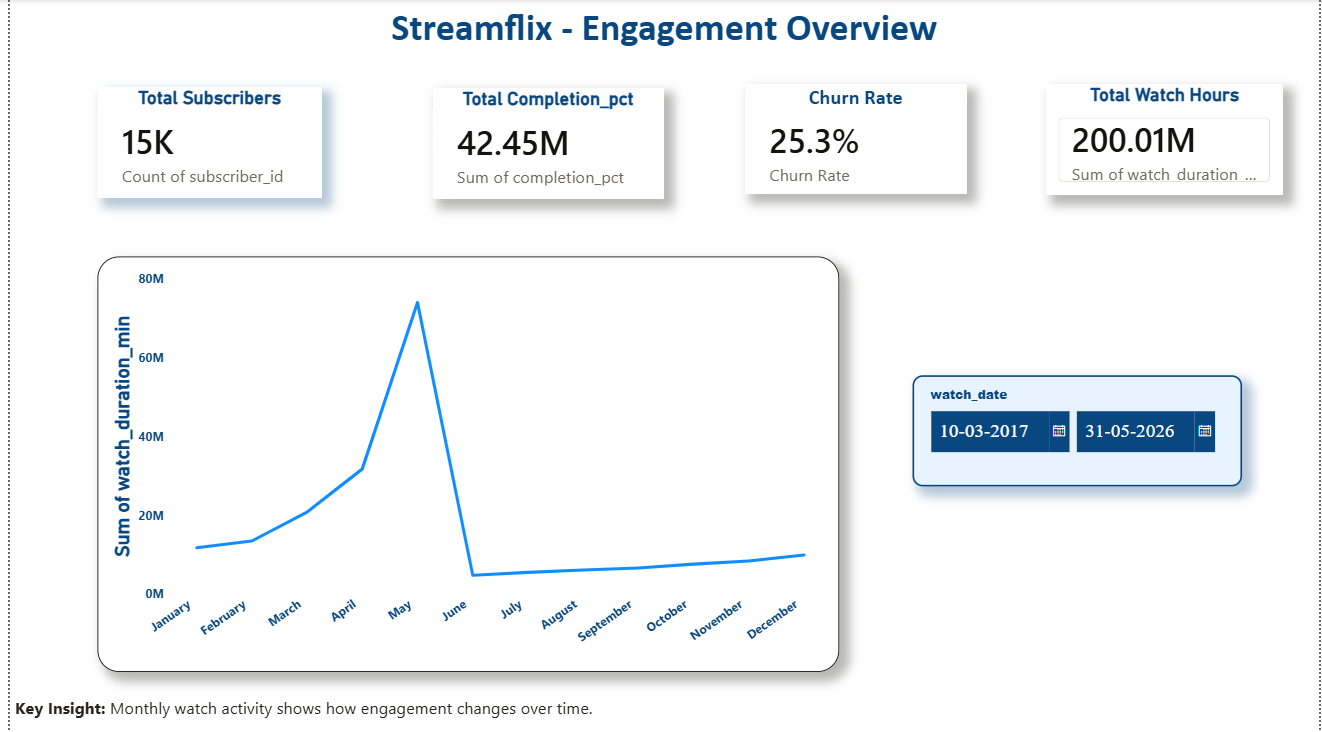

The page's visual inventory and layout, read from the dashboard file:
{"tool":"powerbi","page":{"name":"Engagement Overwiew","canvas":[1280,720],"ordinal":0},"visuals":[{"type":"textbox","box":[0,0,1280.3,60.4],"z":0},{"type":"cardVisual","title":"Total Subscribers","fields":{"Data":["Count(subscribers.subscriber_id)"]},"box":[85.1,85.1,219.6,108.4],"z":1000},{"type":"cardVisual","title":"Total Completion_pct","fields":{"Data":["Sum(watch_history.completion_pct)"]},"box":[413,86.4,226.4,108.4],"z":2000},{"type":"lineChart","fields":{"Y":["Sum(watch_history.watch_duration_min)"],"Category":["watch_history.watch_date.Variation.Date Hierarchy.Month"]},"box":[85.1,252.5,725.9,406.2],"z":3000},{"type":"slicer","fields":{"Values":["watch_history.watch_date"]},"box":[882.3,367.8,322.5,108.4],"z":4000},{"type":"textbox","box":[0,677.9,1280.3,42.5],"z":5000},{"type":"cardVisual","title":"Churn Rate","fields":{"Data":["ratings.Churn Rate"]},"box":[719,83.7,216.8,107],"z":6000},{"type":"cardVisual","title":"Total Watch Hours","fields":{"Data":["Sum(watch_history.watch_duration_min)"]},"box":[1014.1,83.7,231.9,108.4],"z":7000}]}

Visuals, with their boxes in screenshot pixels (x1, y1, x2, y2), scaled from the page's 1280x720 canvas onto the 1322x732 screenshot:
textbox: pyautogui.locateOnScreen(0, 0, 1321, 61)
"Total Subscribers" cardVisual: pyautogui.locateOnScreen(88, 87, 315, 197)
"Total Completion_pct" cardVisual: pyautogui.locateOnScreen(427, 88, 660, 198)
lineChart - Sum(watch_history.watch_duration_min) x watch_history.watch_date.Variation.Date Hierarchy.Month: pyautogui.locateOnScreen(88, 257, 838, 670)
slicer - watch_history.watch_date: pyautogui.locateOnScreen(911, 374, 1244, 484)
textbox: pyautogui.locateOnScreen(0, 689, 1321, 731)
"Churn Rate" cardVisual: pyautogui.locateOnScreen(743, 85, 967, 194)
"Total Watch Hours" cardVisual: pyautogui.locateOnScreen(1047, 85, 1287, 195)
